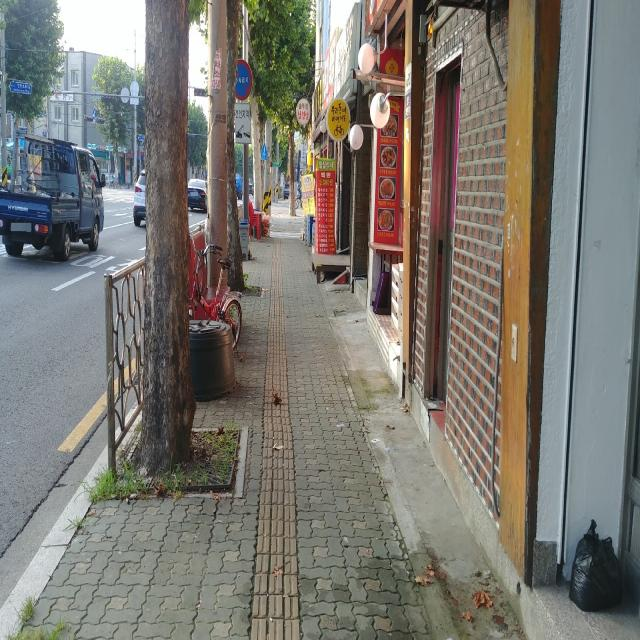횡단보도: (270, 230, 300, 238)
